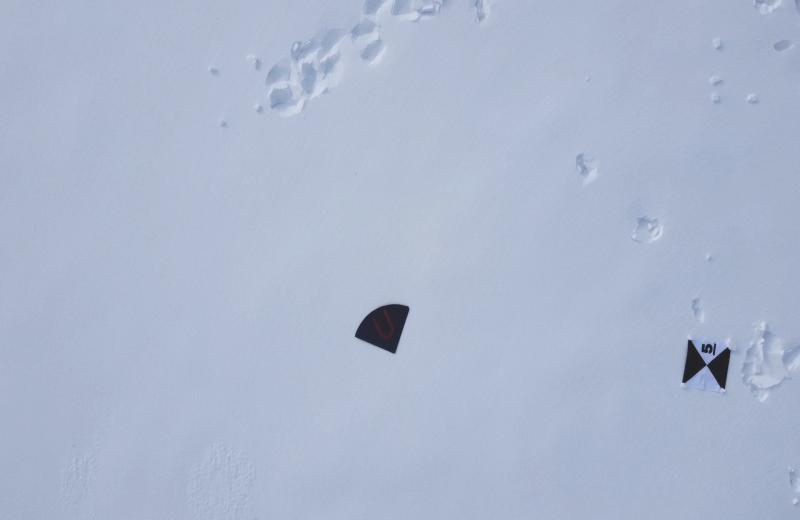Quarter Circle: (354, 300, 410, 356)
